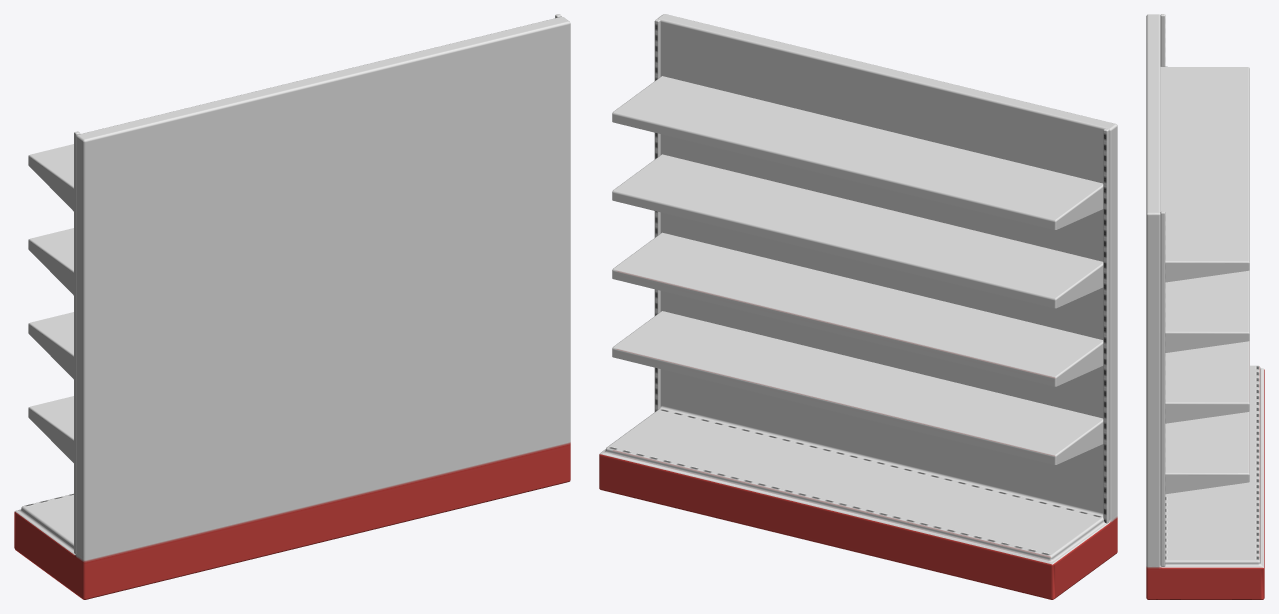
Rendered from shelf.glb.
The picture shows the model from 3 angles, left to right: view 1: azimuth 30°, elevation 25°; view 2: azimuth 150°, elevation 25°; view 3: azimuth 270°, elevation 25°; orthographic projection. The views are drawn at different scales.
Parts seen in each view (by area): view 1: etagere; view 2: etagere; view 3: etagere.
Part boxes in pixels (x1,y1,x2,y2): etagere: [14, 14, 570, 599]; etagere: [599, 14, 1117, 599]; etagere: [1146, 14, 1264, 599].
Bounding box in the file's own units: 2.18 × 1.97 × 0.5446.
1 material, 1 textured.
